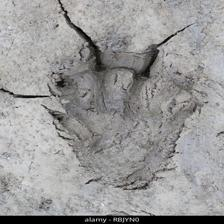beaver: (44, 31, 204, 195)
